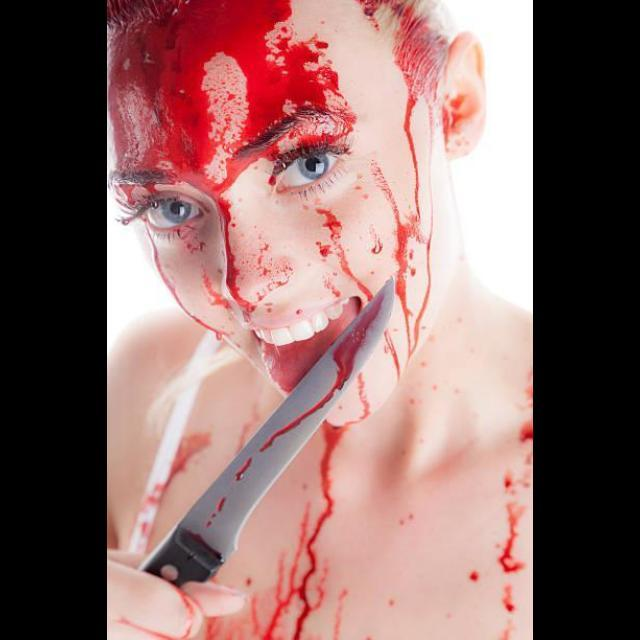blood: (108, 0, 454, 425), (206, 426, 350, 639), (259, 289, 385, 452), (499, 421, 534, 576), (167, 433, 211, 486), (235, 458, 251, 482), (503, 586, 517, 613), (218, 499, 225, 513), (471, 572, 480, 582), (204, 522, 209, 528)
